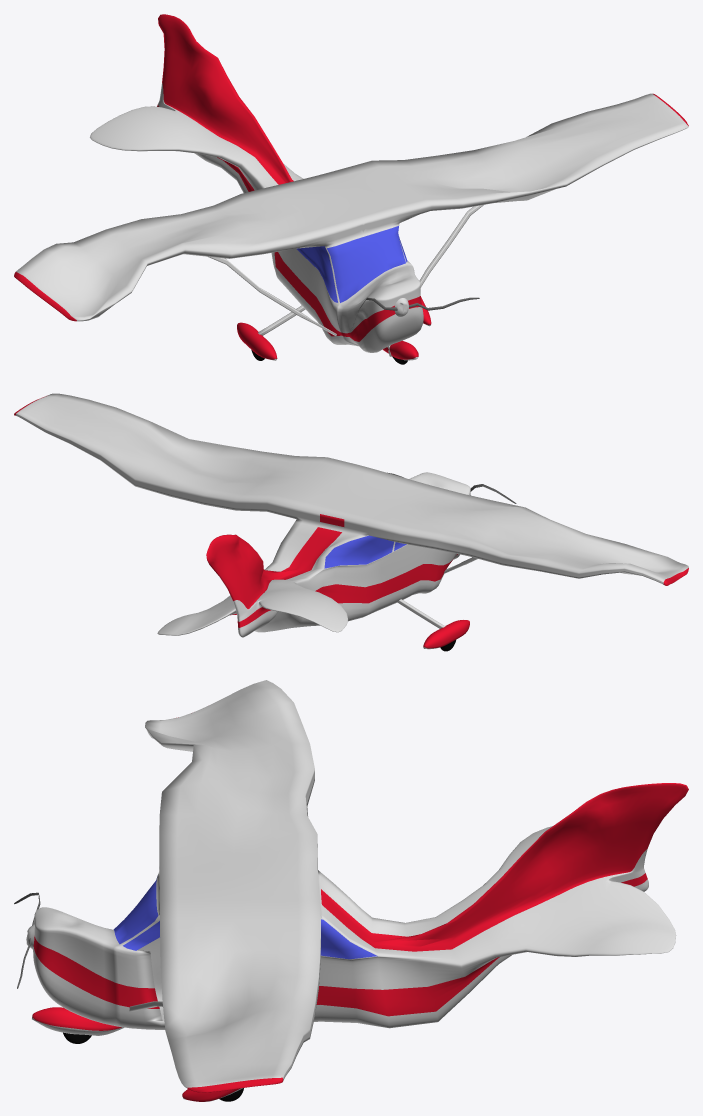
The model's file is SM_Cessna_Wrecked.fbx.
3 views of the same model, one above another, from view 1: azimuth 30°, elevation 25°; view 2: azimuth 150°, elevation 25°; view 3: azimuth 270°, elevation 25° (orthographic). The views are drawn at different scales.
Visible parts, largest first — view 1: Cesna; view 2: Cesna; view 3: Cesna.
Boxes of the visible parts, x1,y1,x2,y2 form: Cesna: (14,14,688,364); Cesna: (14,393,688,651); Cesna: (14,680,688,1101).
Bounding box in the file's own units: 837 × 254 × 561.
